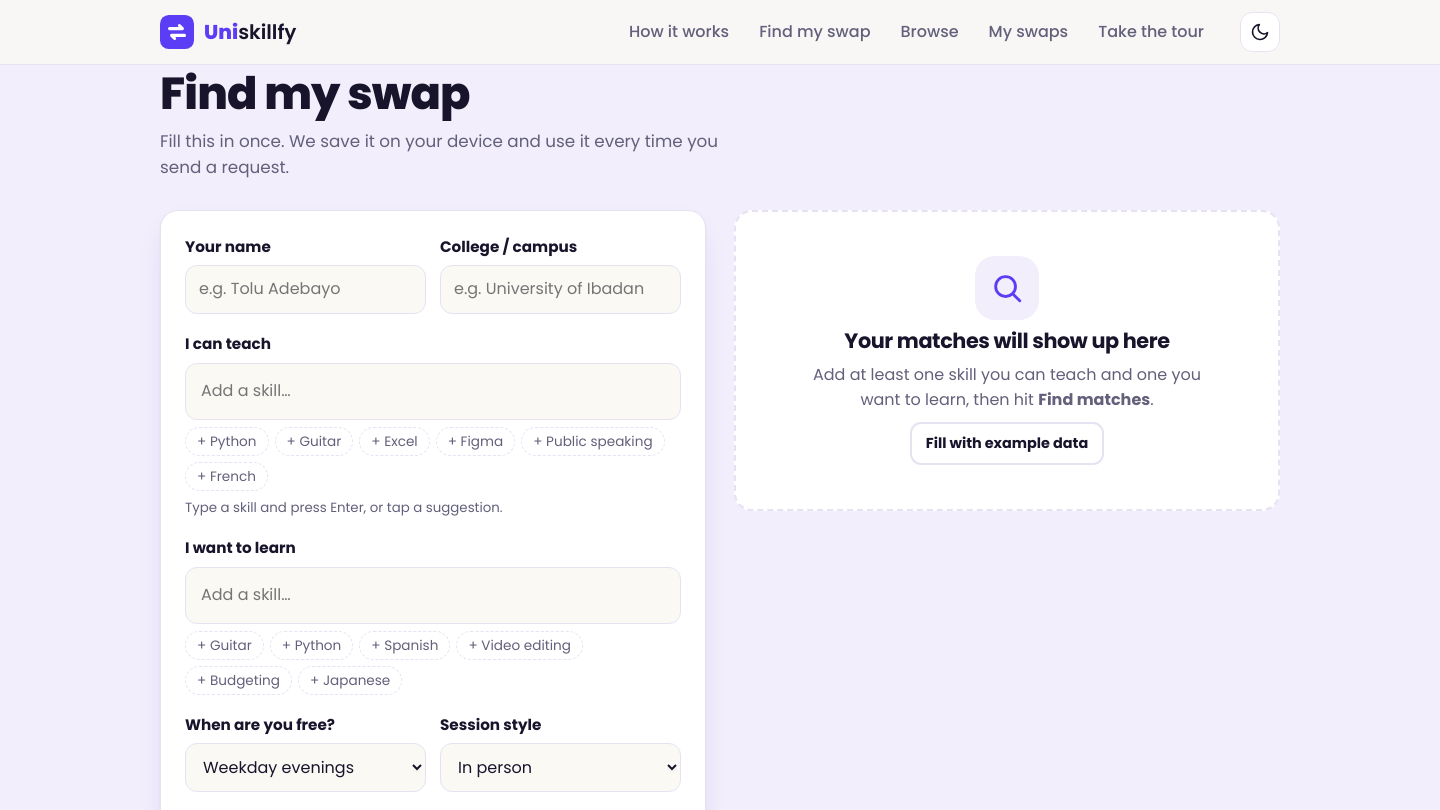
Test: app flow › fills demo data, shows matches, and runs a swap end to end
(page scrolled)
Click the button "Fill with example data" at (1007, 443), box [910, 422, 1104, 465]
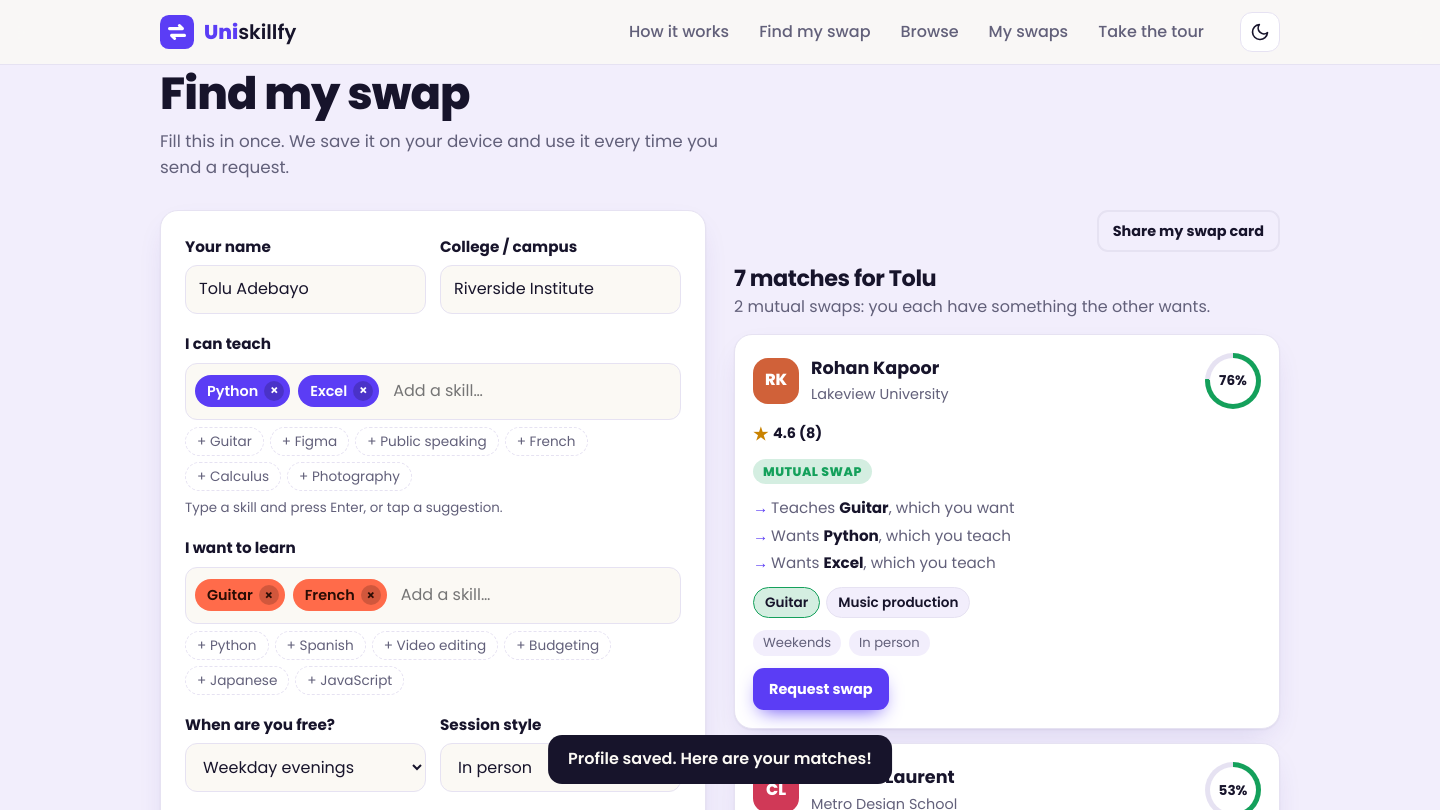
Expected: the heading "7 matches for Tolu" is shown, [734, 262, 936, 294]
Expected: the text "Mutual swap" is shown, [753, 459, 872, 484]
# request a swap from the first match
Click the button "Request swap" at (821, 689), box [753, 668, 888, 710]
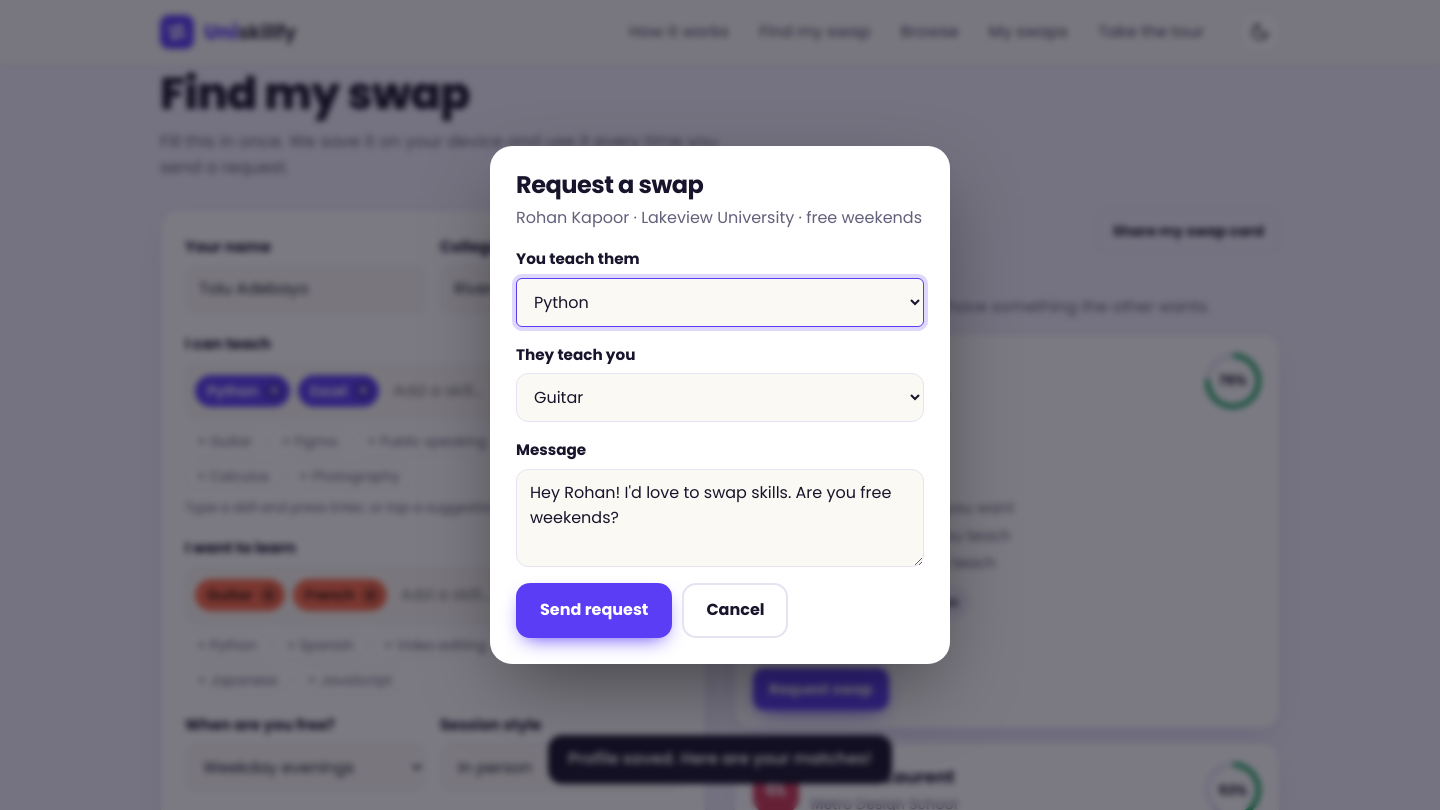
Click the button "Send request" at (594, 611), box [516, 583, 672, 638]
(page scrolled)
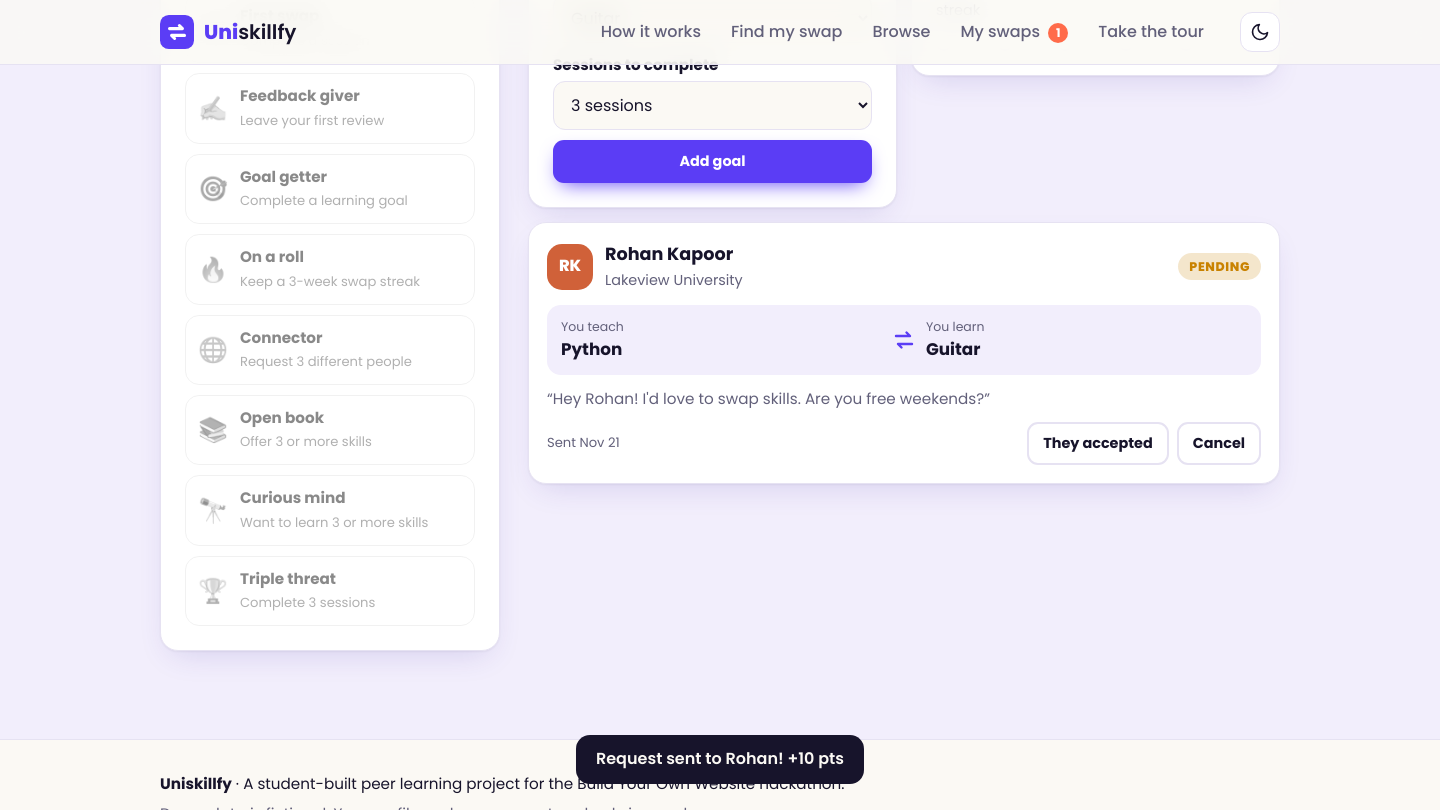
Expected: the number of list items with class "req" is 1, [528, 222, 1280, 484]
Click the button "They accepted" at (1098, 444), box [1027, 422, 1169, 465]
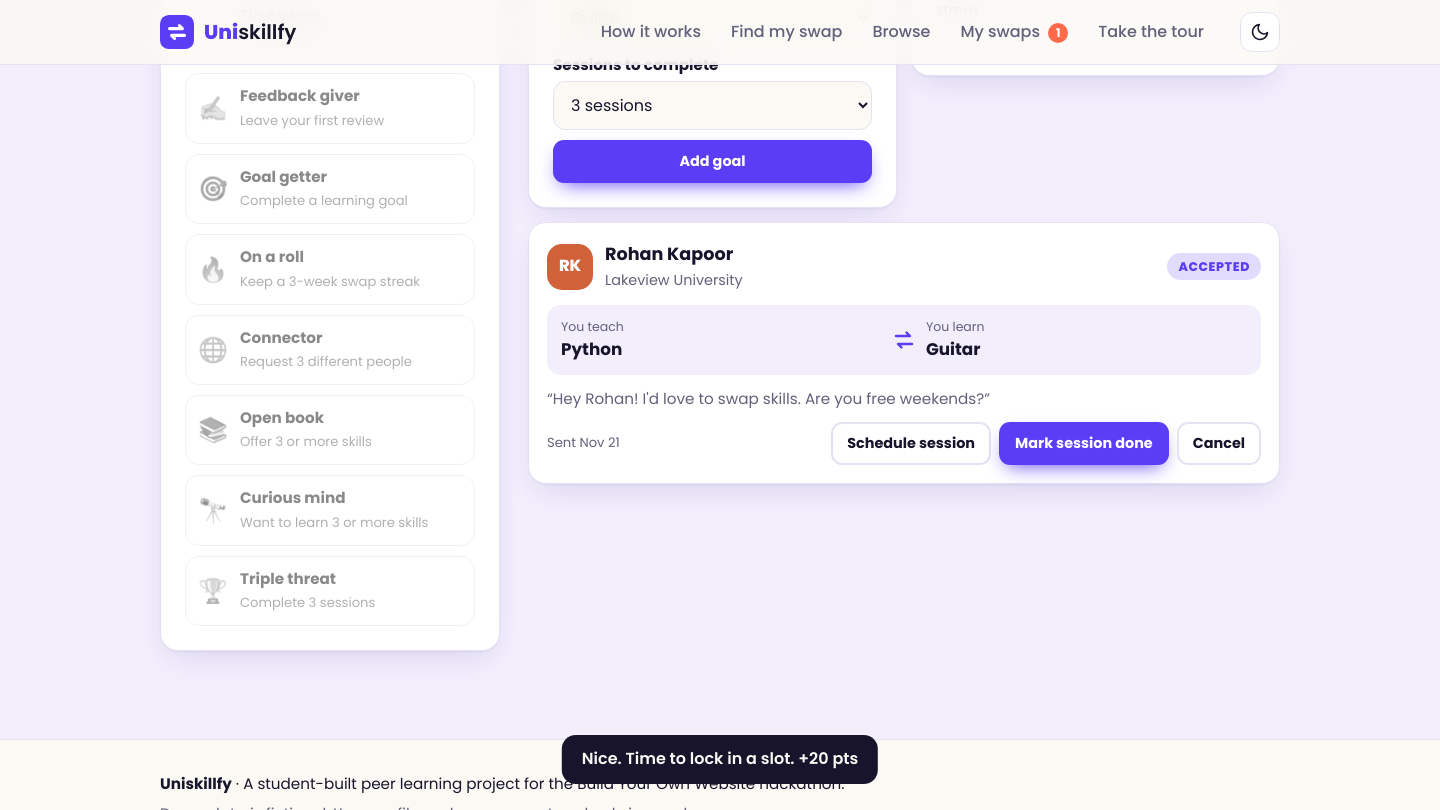
Click the button "Mark session done" at (1084, 444), box [999, 422, 1169, 465]
(page scrolled)
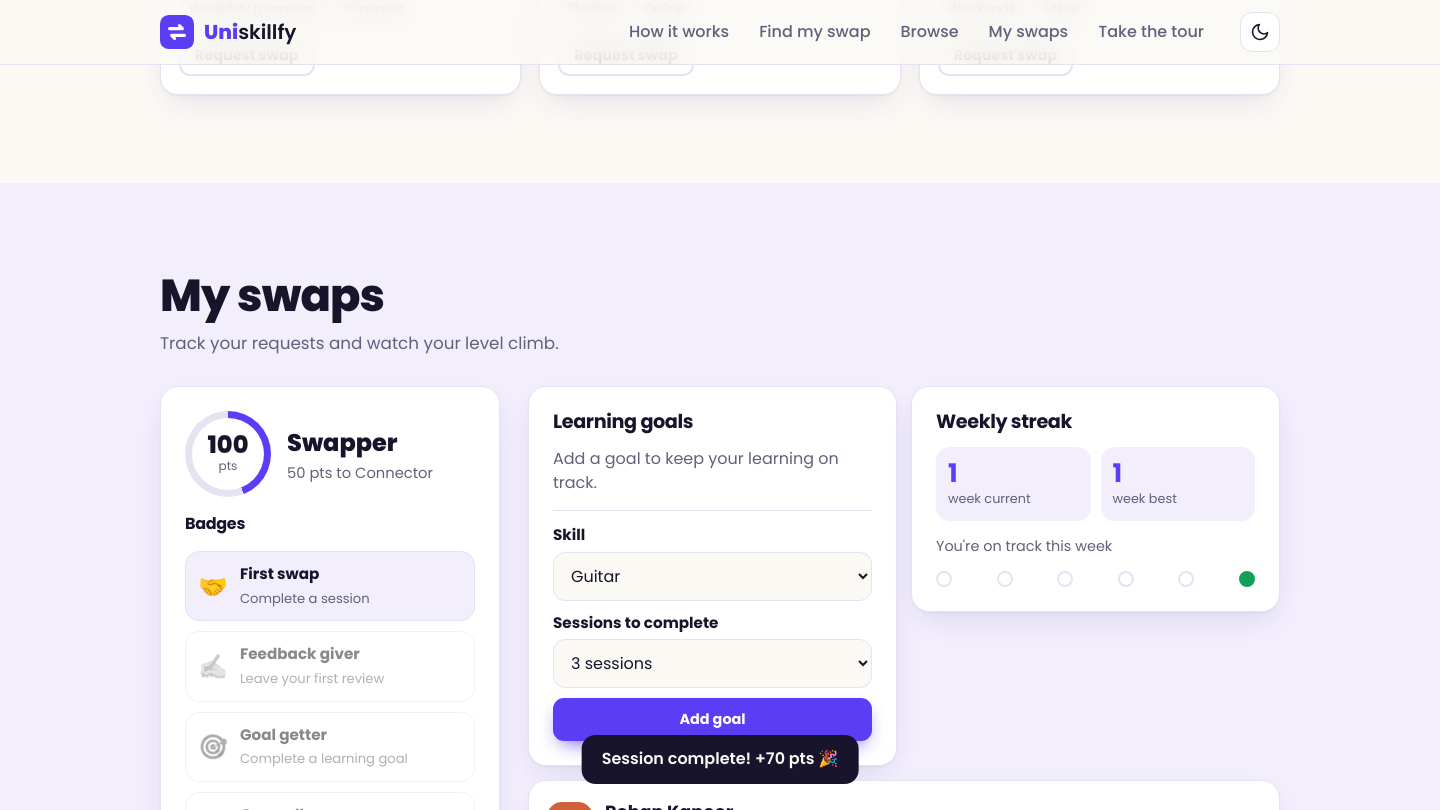
Expected: the text "100" is shown, [208, 433, 248, 457]
Expected: the text with class "level-name" reads "Swapper", [287, 426, 398, 460]
